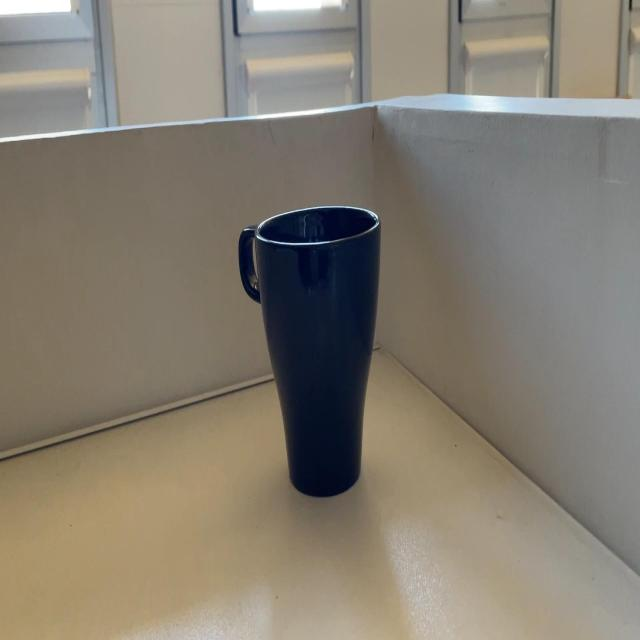cup: (238, 210, 381, 500)
